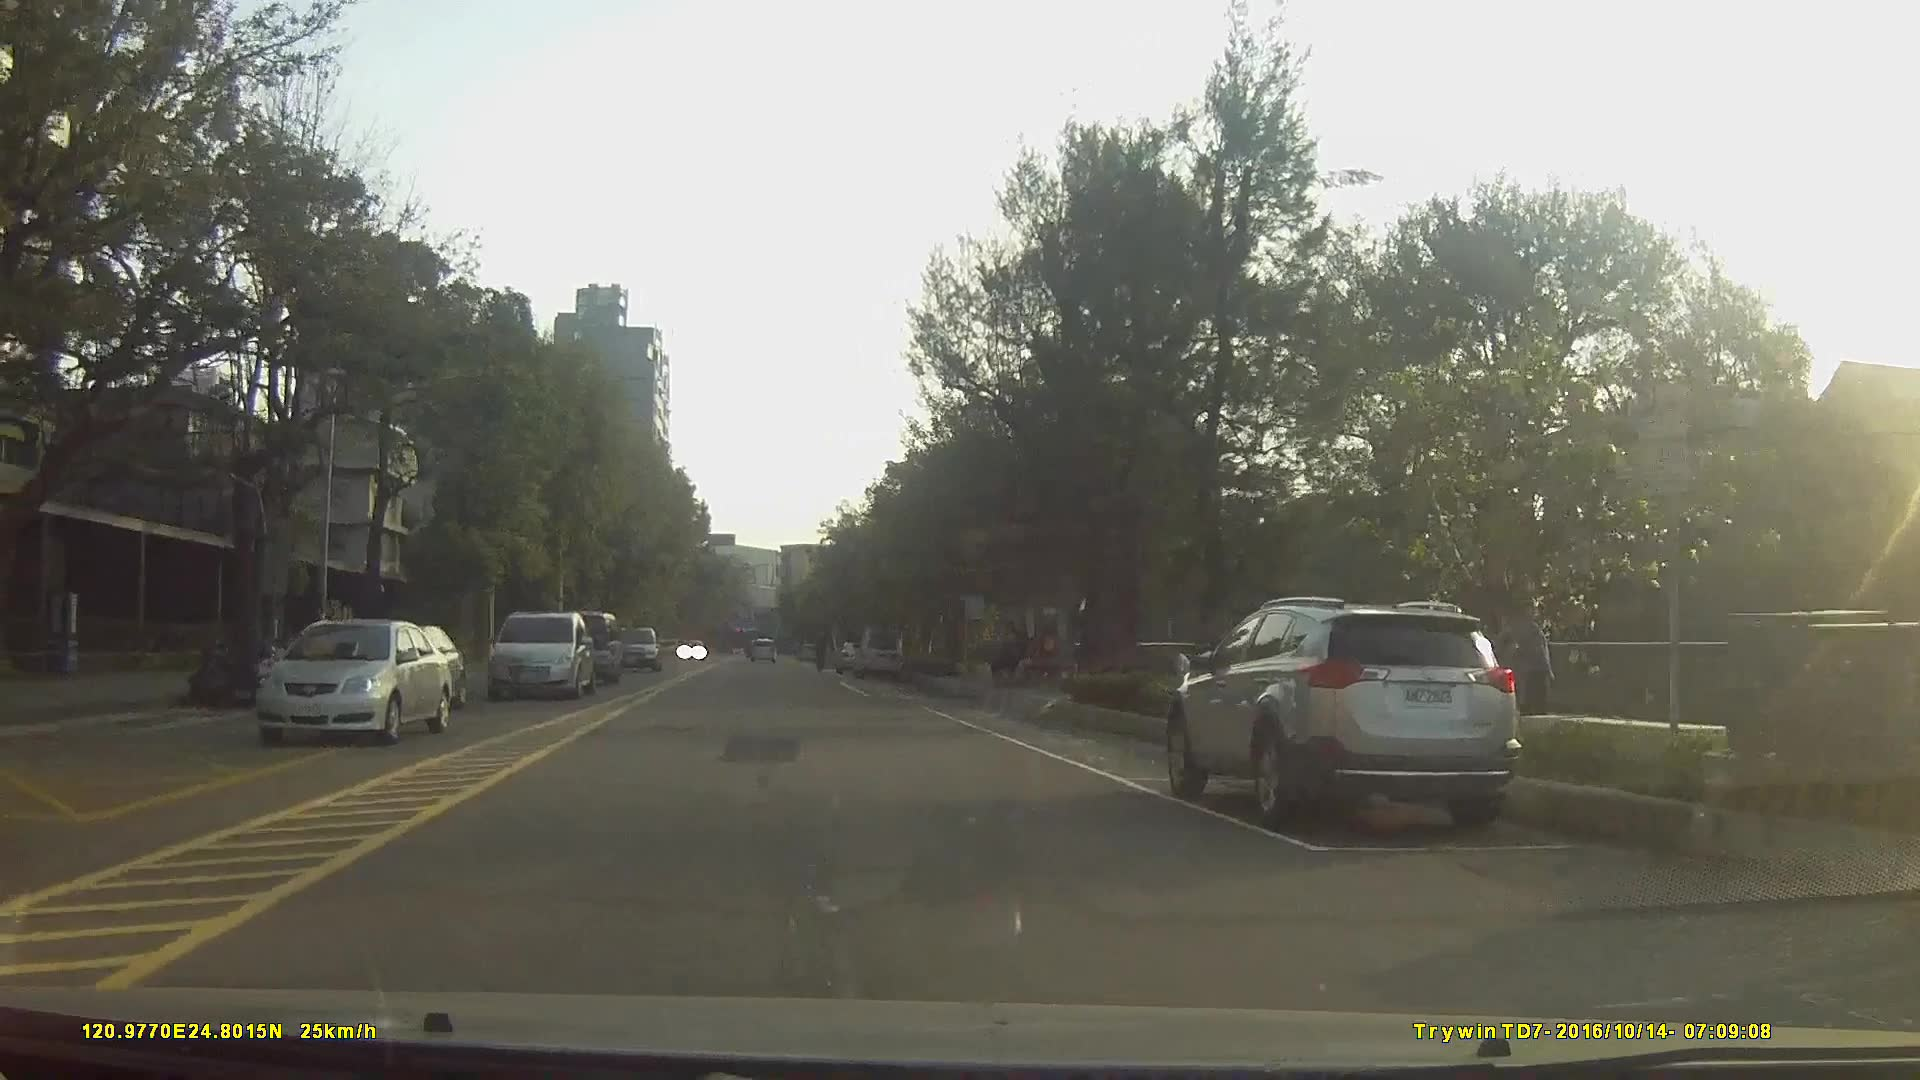vehicle: (1168, 595, 1520, 827), (255, 618, 452, 744), (487, 611, 593, 702), (851, 622, 906, 676), (607, 625, 659, 671), (832, 640, 868, 673), (748, 636, 775, 662)
